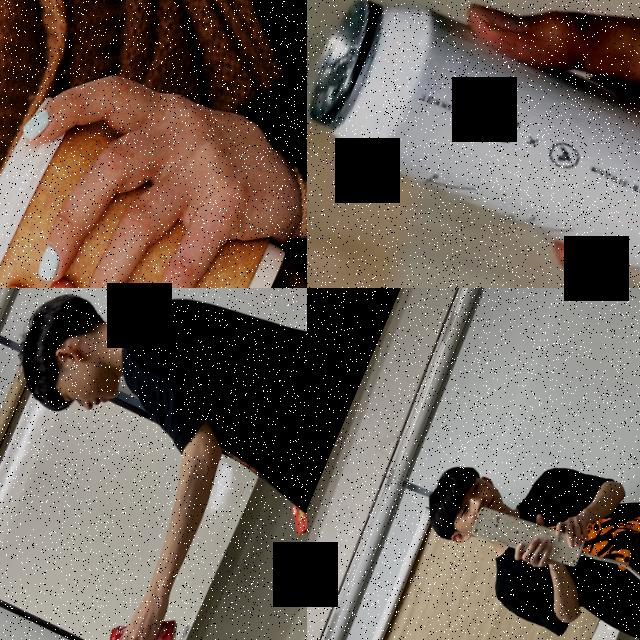can: (307, 0, 640, 288), (96, 597, 185, 640)
cup: (0, 81, 307, 288)
